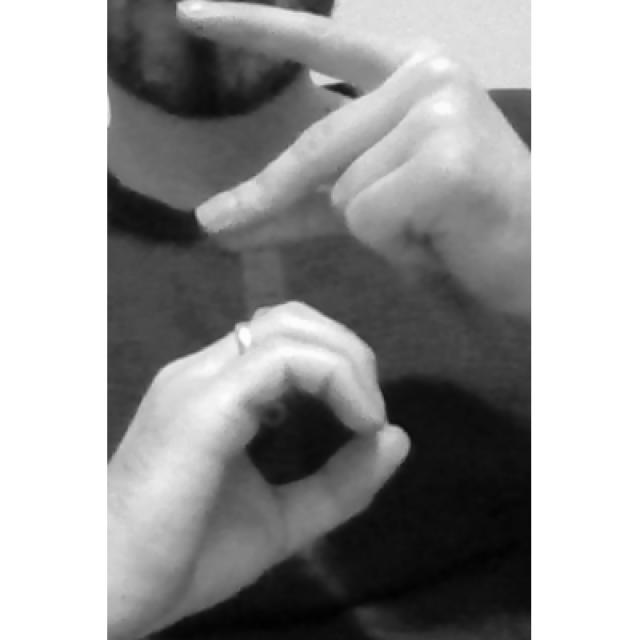O--: (107, 0, 530, 640)
